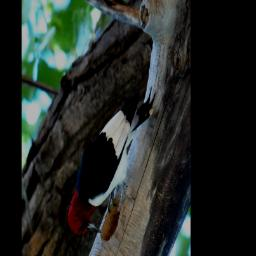Woodpecker: (69, 87, 159, 237)
